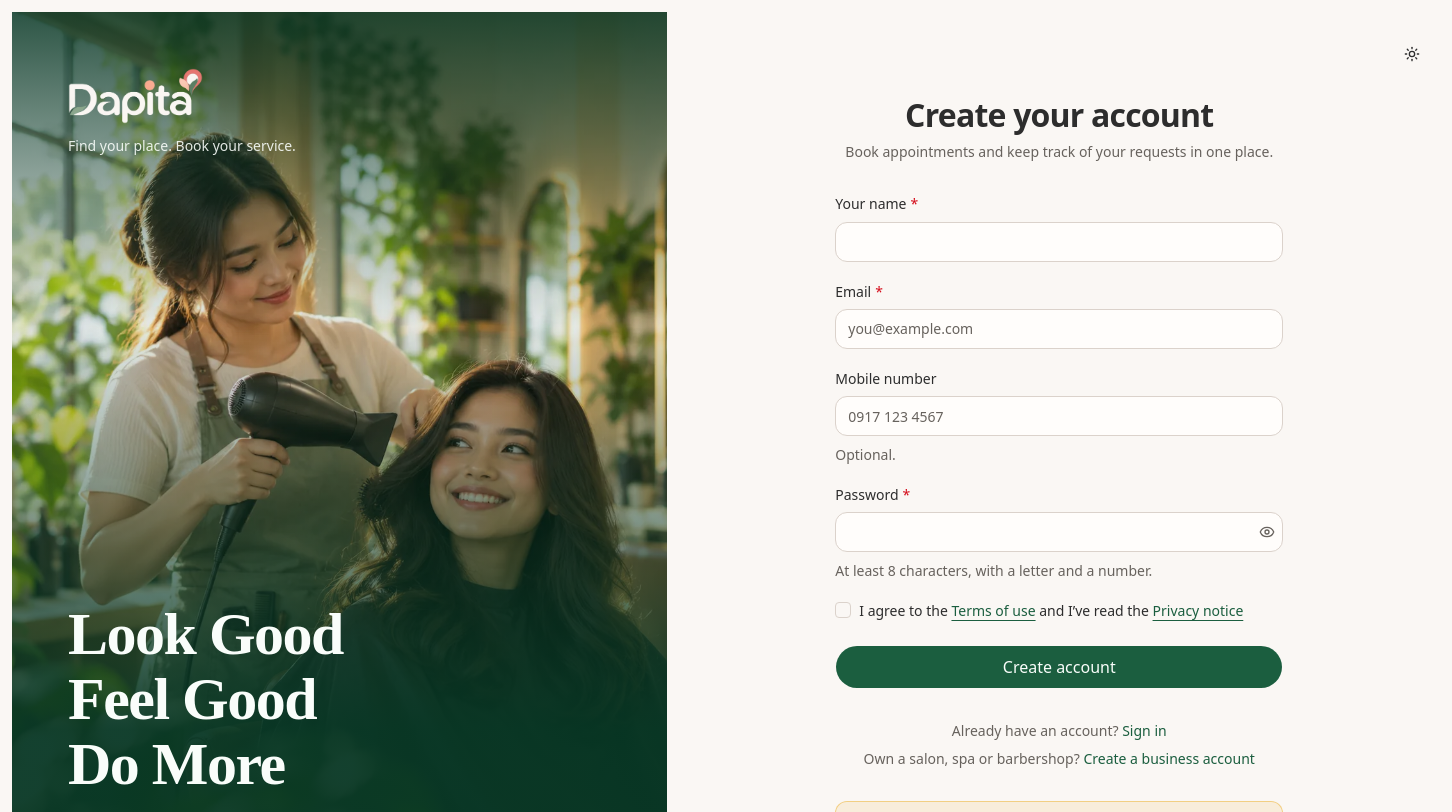
Scenario: customer sign-up (plan step 5 exit: guest → sign-up → back to the intended action) › shows a taken email on the email field
Step 1. Type "Someone" into the field labelled "Your name *" → point(1059, 242), box [835,222,1283,262]
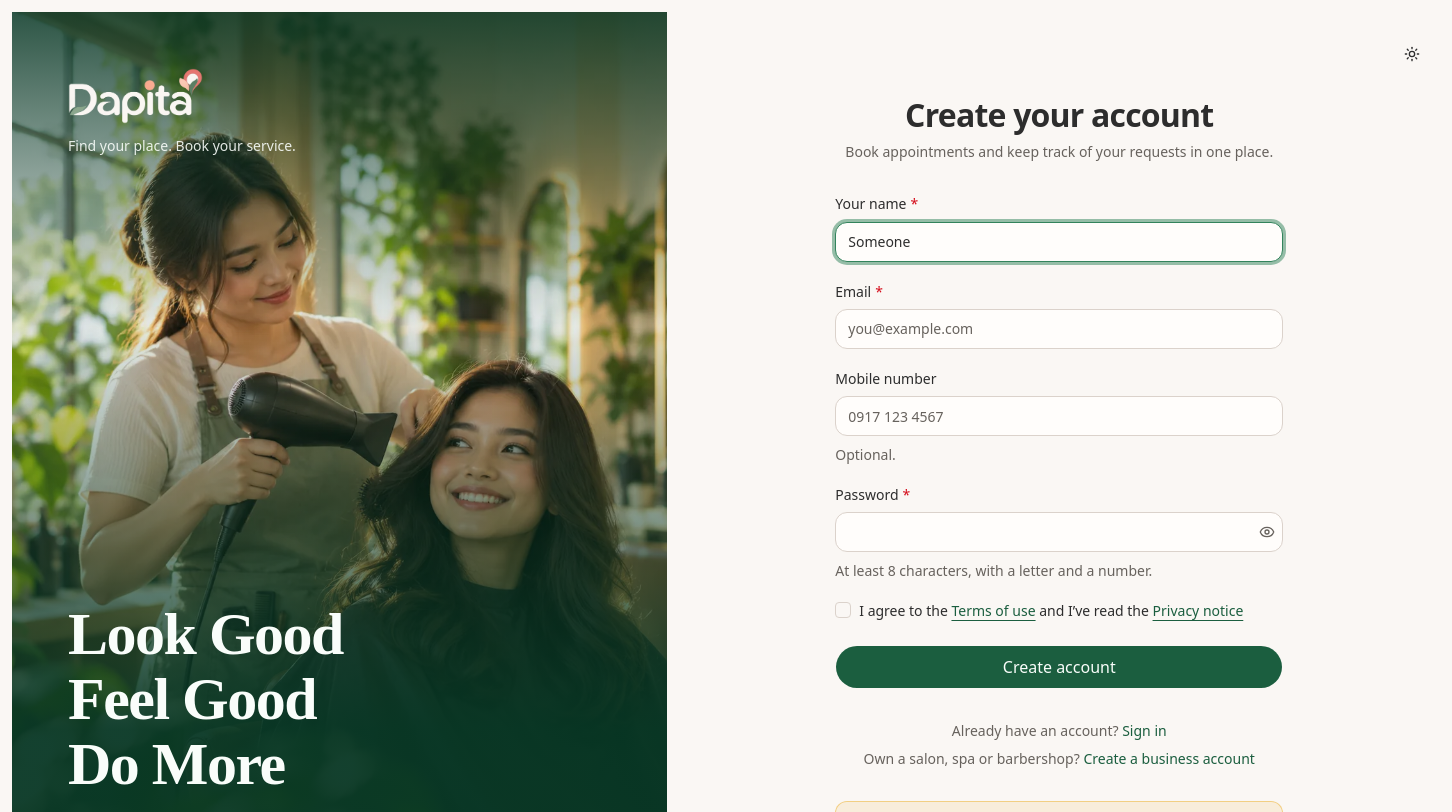
Step 2. Type "customer@example.com" into the field labelled "Email *" → point(1059, 329), box [835,309,1283,349]
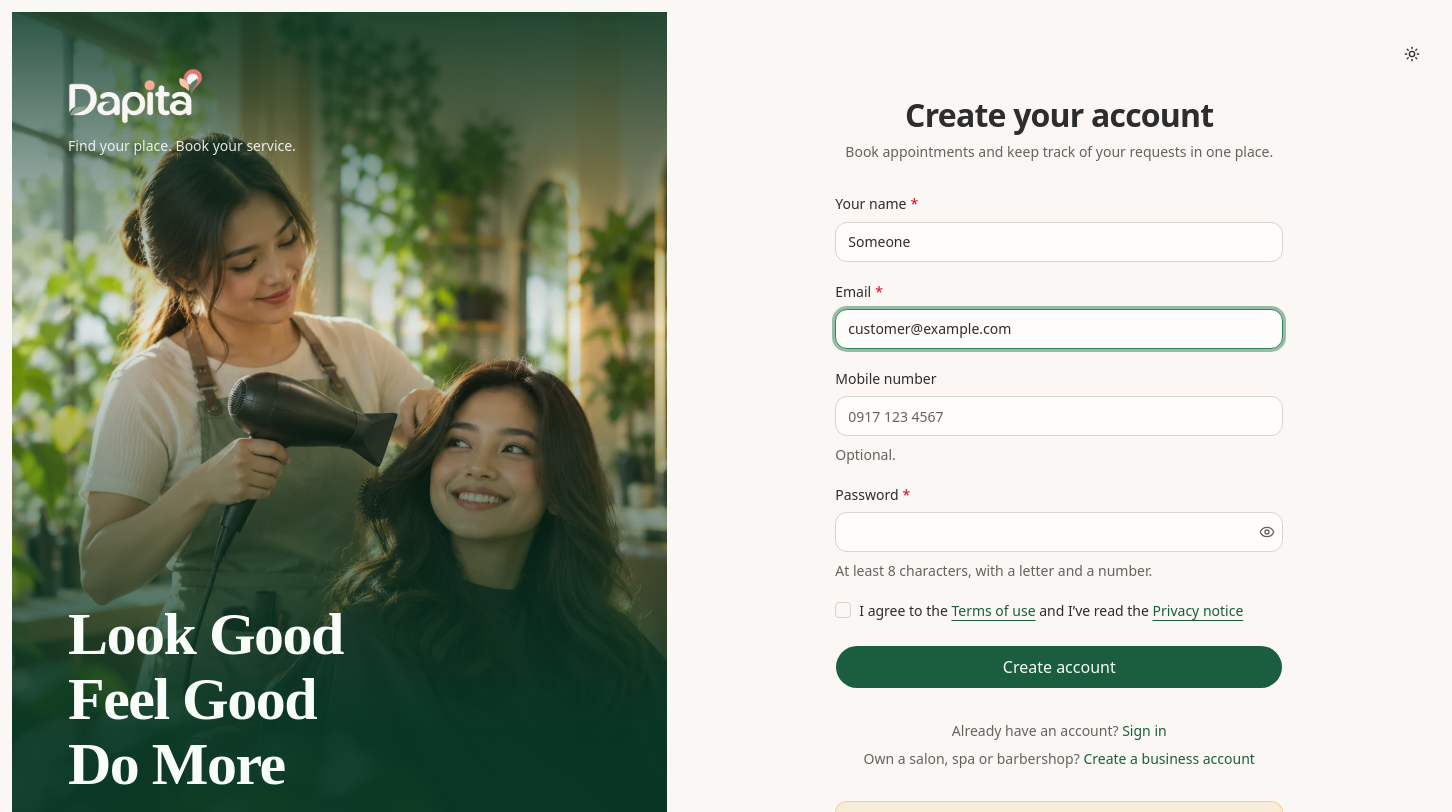
Step 3. Type "mirror42" into the password field labelled "Password *" → point(1046, 532), box [836,512,1255,552]
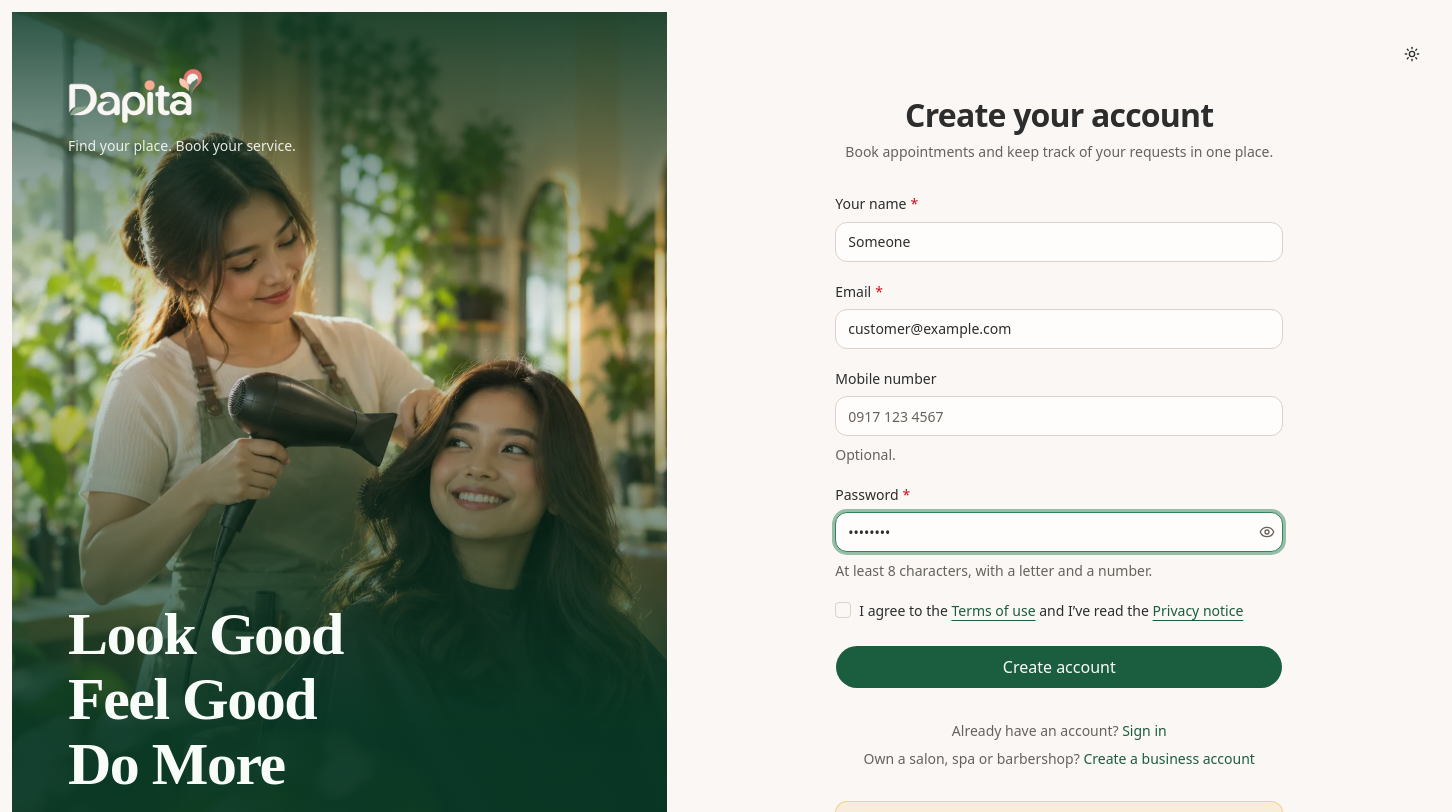
Step 4. Click the checkbox named "i agree to the terms of use" → point(843, 610), box [835,602,851,618]
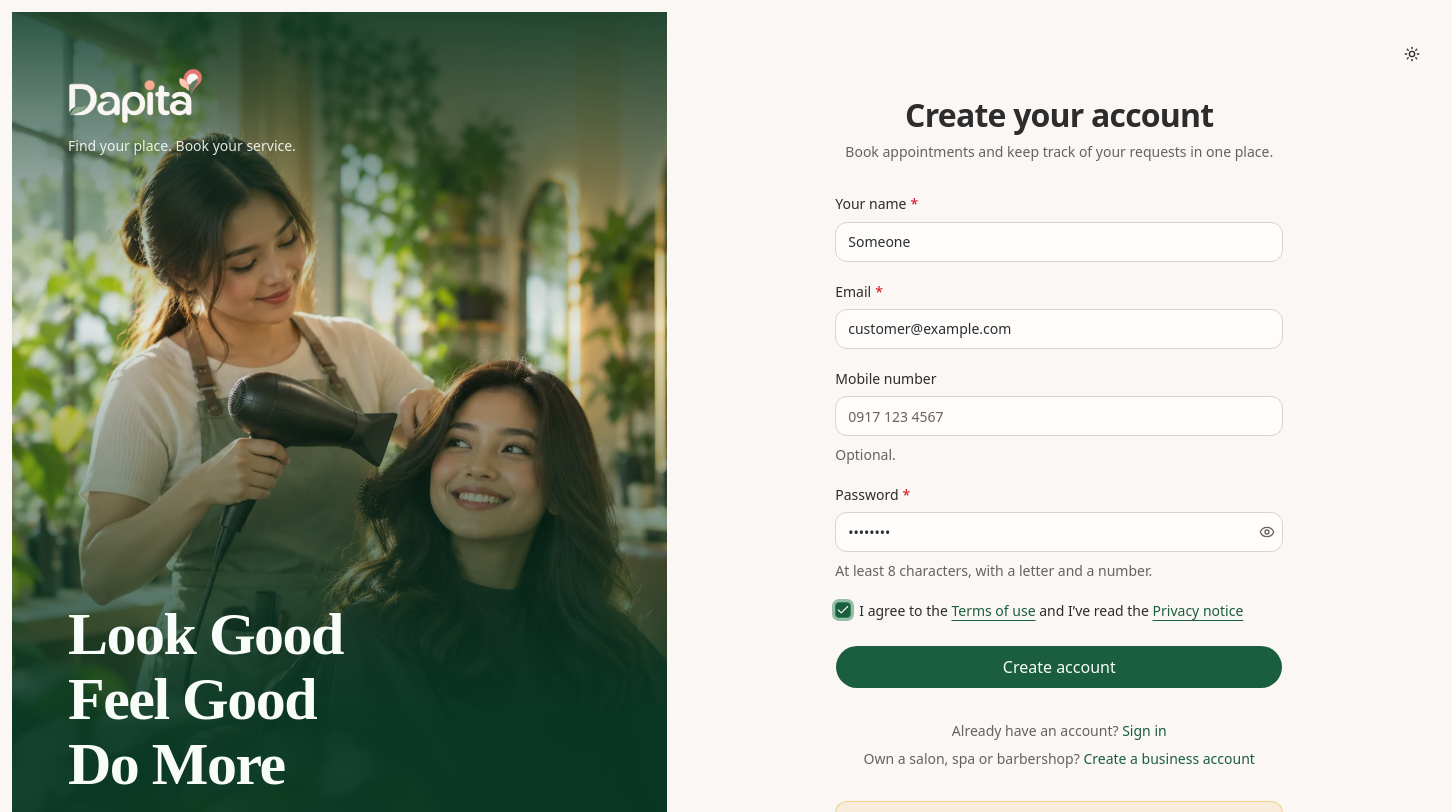
Step 5. Click the button "Create account" → point(1059, 667), box [835,645,1283,689]
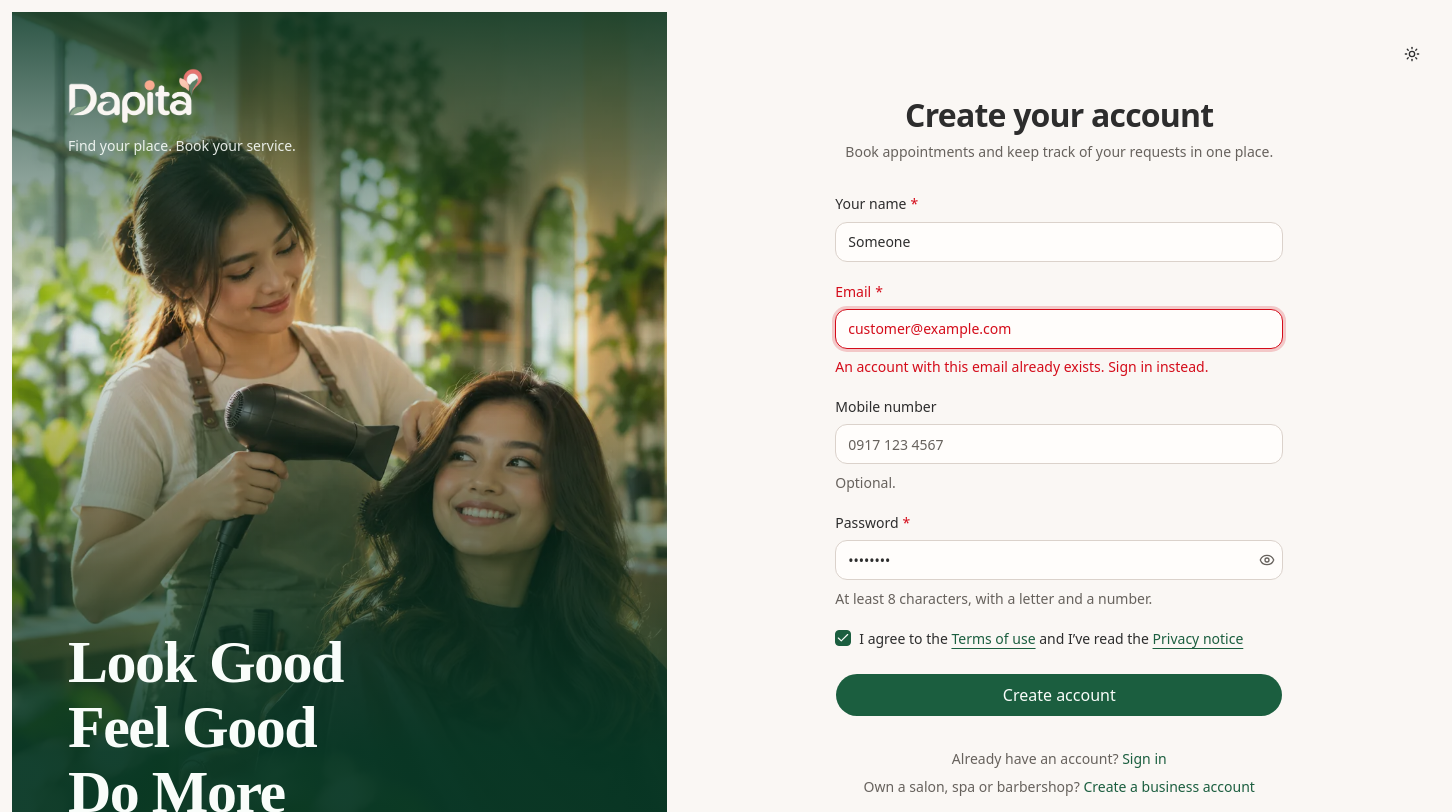
Result: the text "An account with this email already exists. Sign in instead." is shown at [835,357,1208,376]
